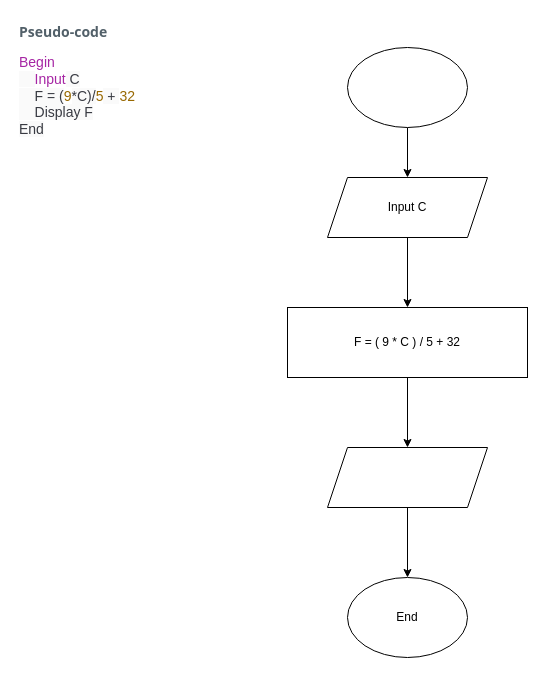
Some shapes in this 545 by 675 pixel diagram are drawn without their labels. Each missing label, with the box of its shape:
Begin: (346, 46, 468, 128)
Display F: (326, 446, 488, 508)
